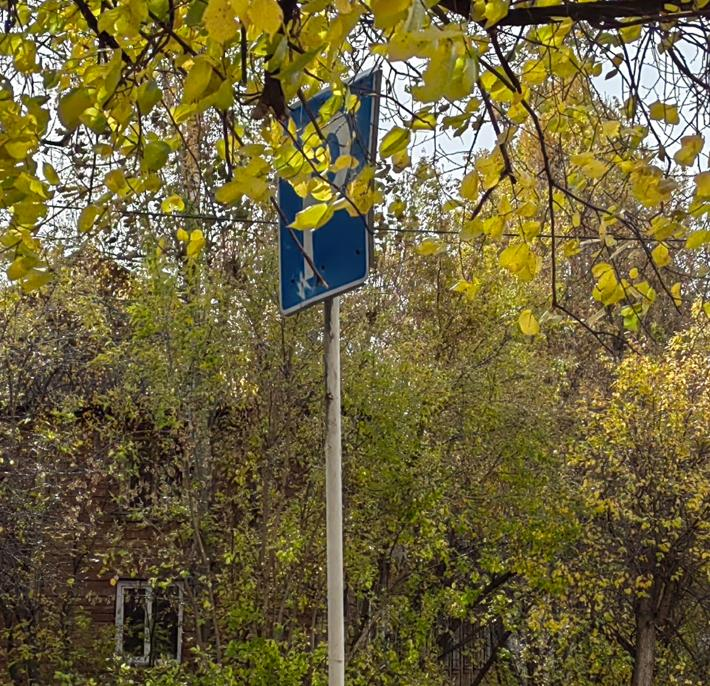obstructed_road_sign: (276, 68, 376, 316)
